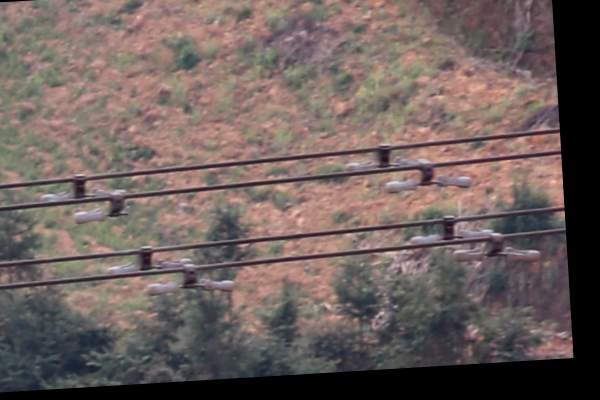damper: (382, 158, 475, 194), (142, 263, 237, 297), (448, 232, 547, 264), (408, 213, 498, 244), (40, 169, 127, 201), (341, 140, 430, 170), (106, 244, 195, 272)
damper_defect: (72, 193, 132, 225)
